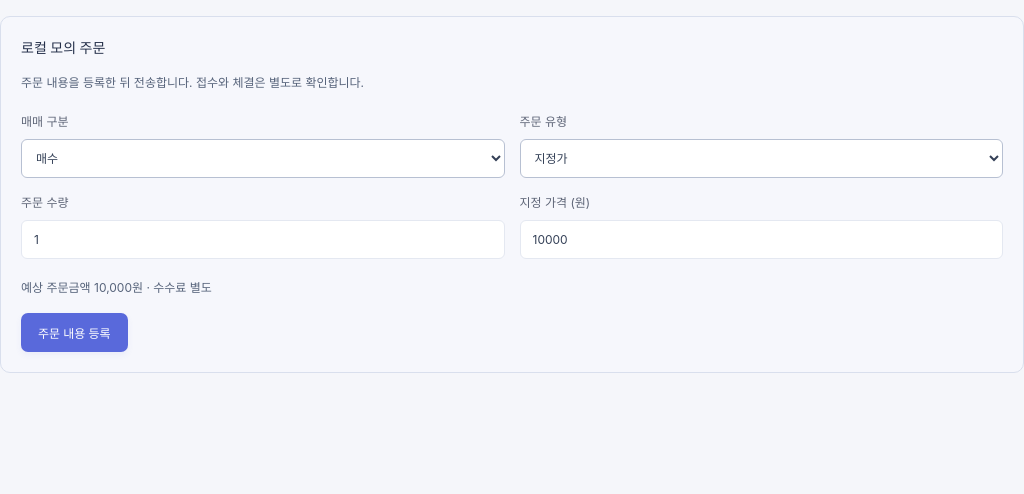
Scenario: keeps a queued registered order from being submitted again
Click the button "주문 내용 등록".
click(74, 333)  # box [21, 313, 128, 352]
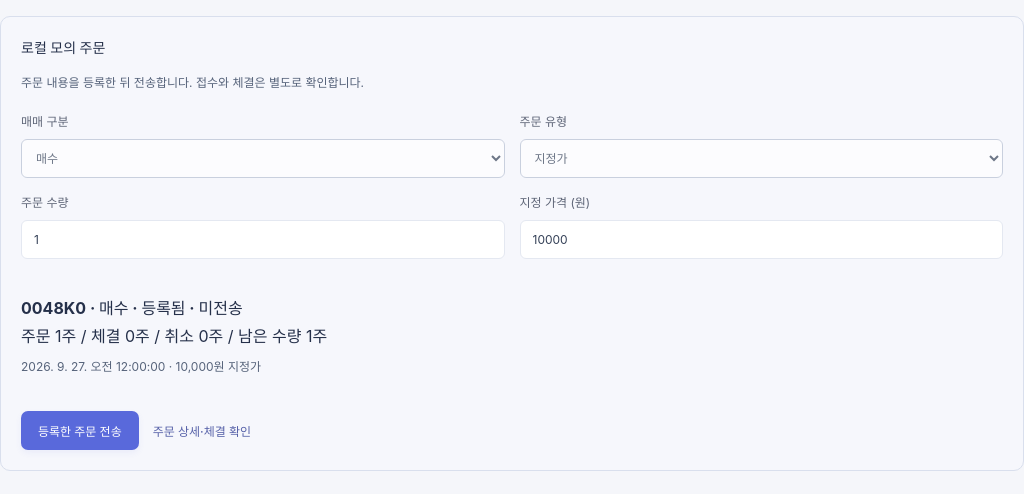
Click the button "등록한 주문 전송".
click(80, 430)  # box [21, 411, 139, 450]
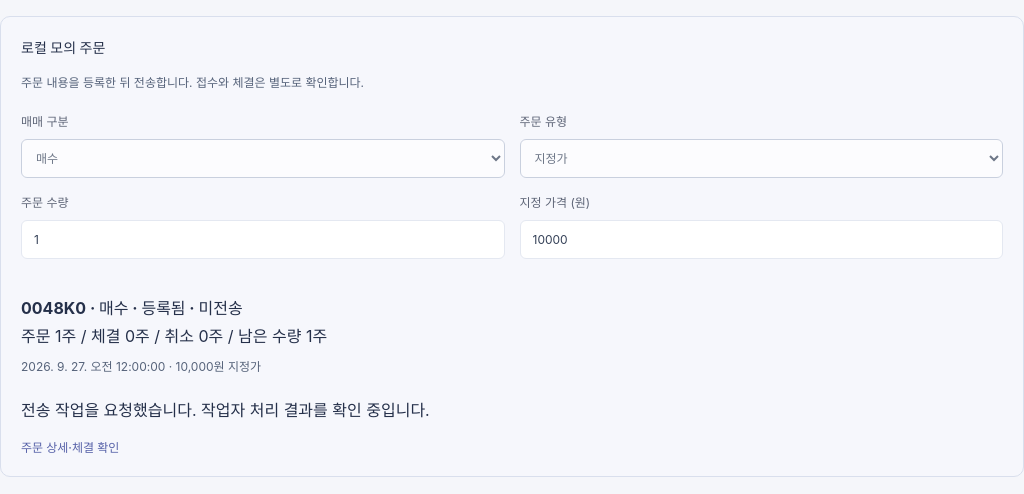
expect the text "전송 작업을 요청했습니다. 작업자 처리 결과를 확인 중입니다." is shown: met, box [21, 400, 430, 420]
expect the button "등록한 주문 전송" is gone: met
